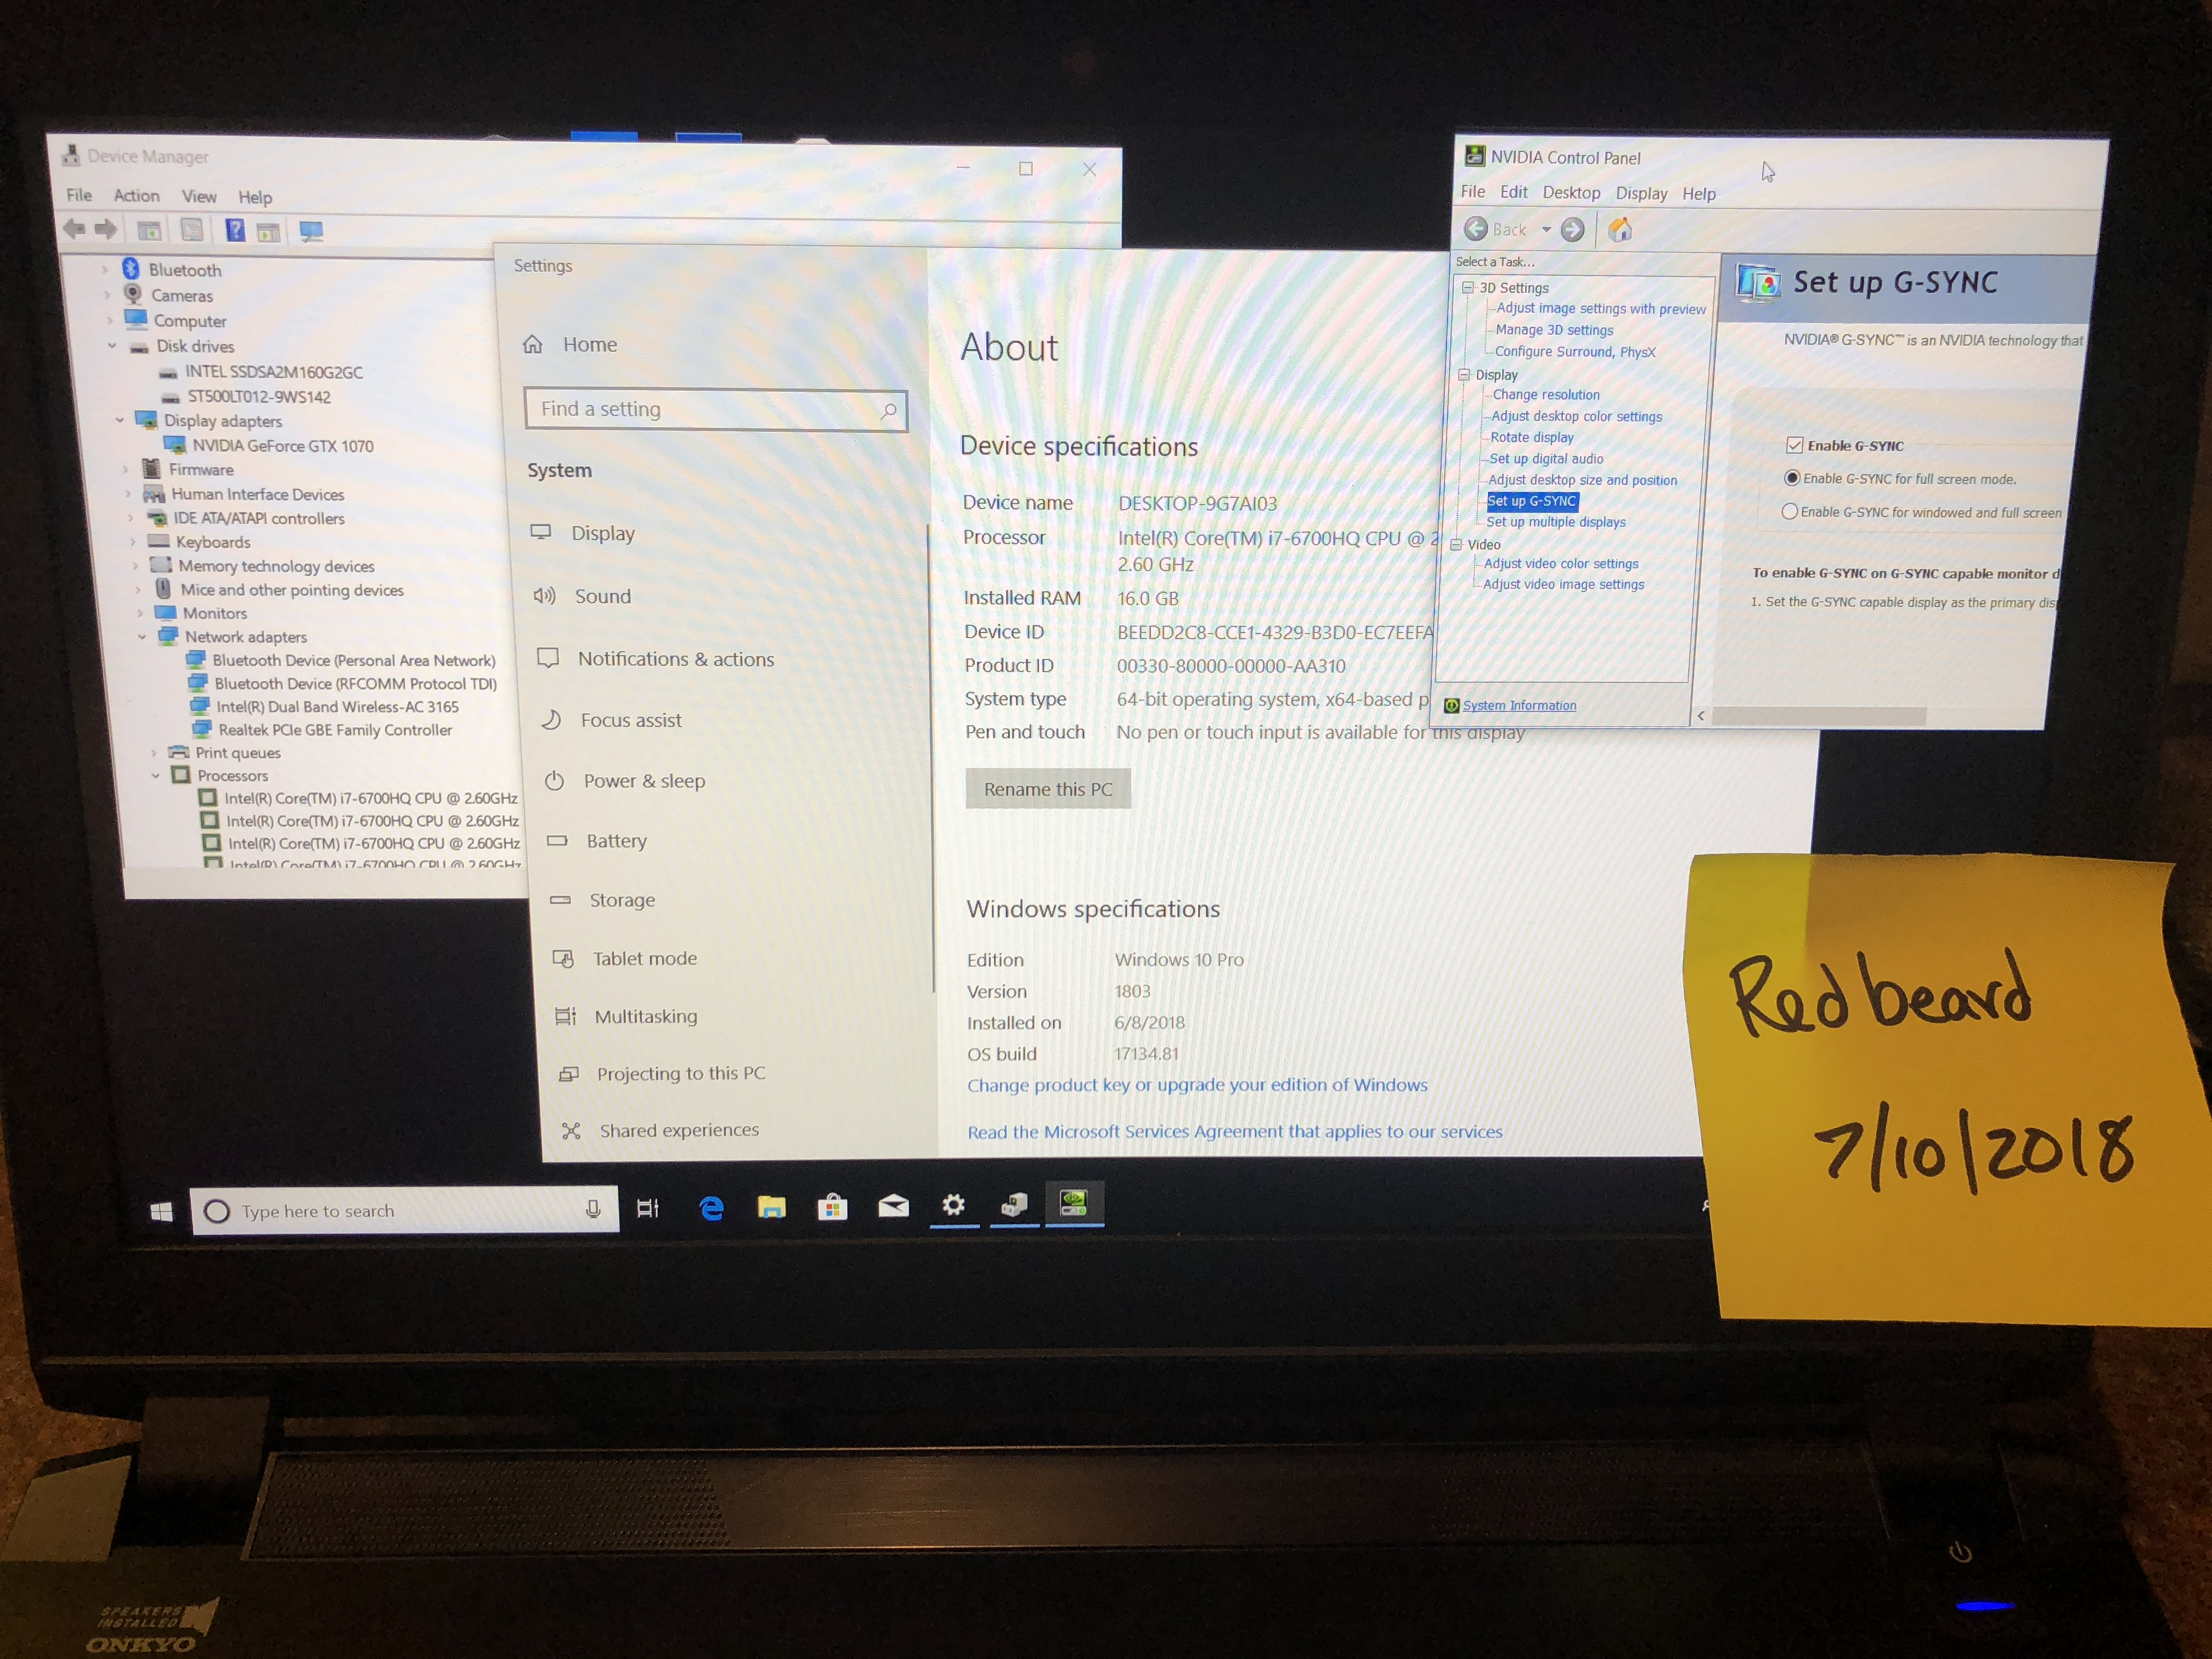Note: (1688, 854, 2212, 1324)
